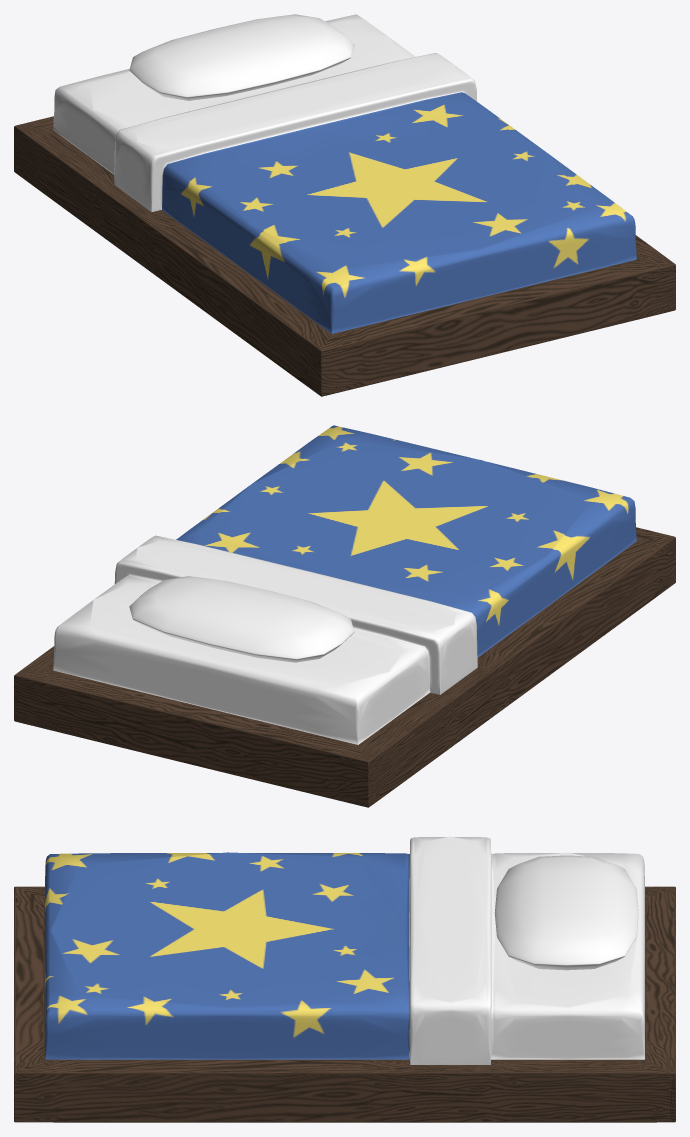
Rendered from Bed.FBX.
3 renders of one model, top to bottom at view 1: azimuth 30°, elevation 25°; view 2: azimuth 150°, elevation 25°; view 3: azimuth 270°, elevation 25°, orthographic. The views are drawn at different scales.
Visible parts, largest first — view 1: Box001, Box002; view 2: Box001, Box002; view 3: Box001, Box002.
Part boxes in pixels (bbox=[...]): Box001: bbox=[14, 14, 675, 396]; Box002: bbox=[129, 14, 354, 100]; Box001: bbox=[14, 425, 675, 807]; Box002: bbox=[129, 576, 354, 662]; Box001: bbox=[14, 836, 675, 1122]; Box002: bbox=[494, 855, 638, 970].
Bounding box in the file's own units: 157 × 53.94 × 236.
2 materials, 2 textured.
